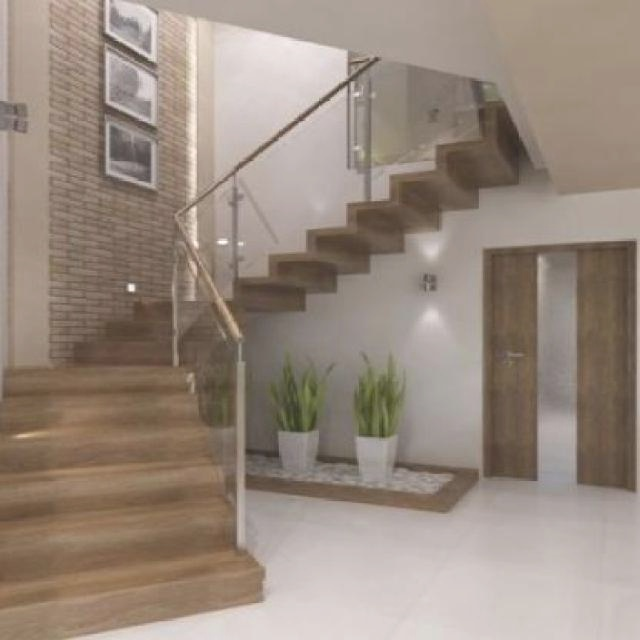stair: (5, 65, 573, 320), (2, 328, 320, 606)
